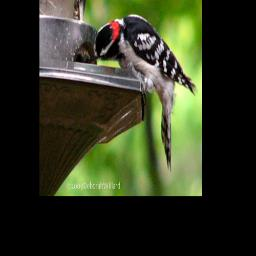Woodpecker: (88, 12, 199, 173)
